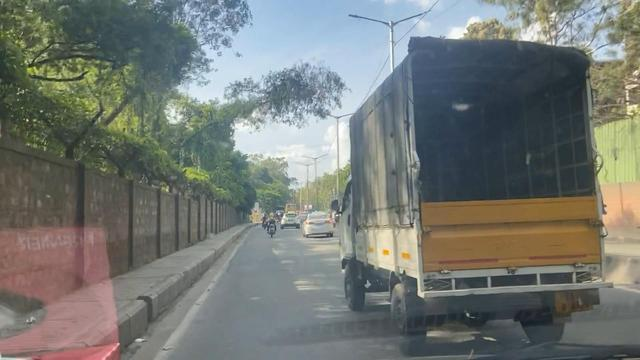HMV: (342, 39, 610, 352)
